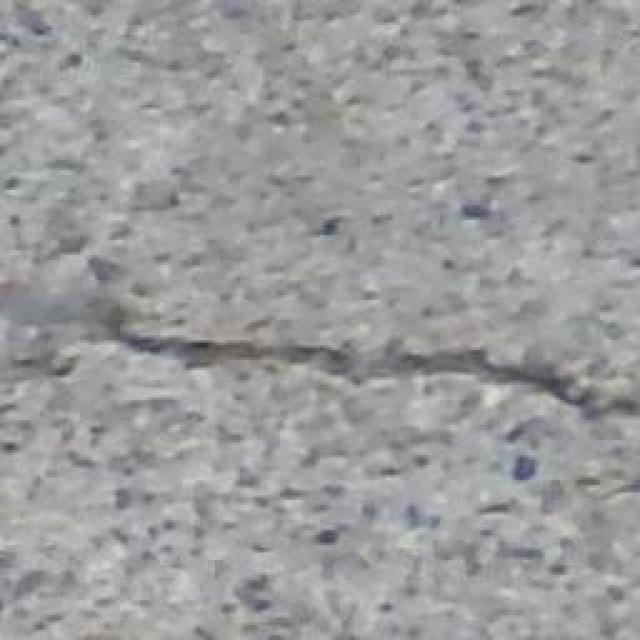concrete-crack: (10, 257, 640, 432)
